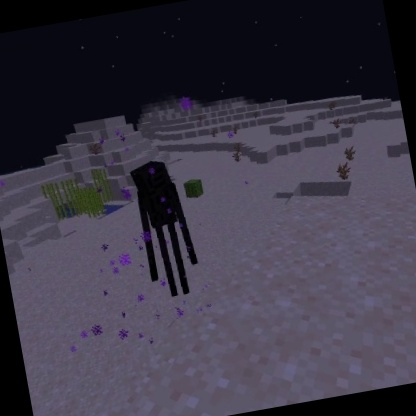enderman: (124, 153, 207, 304)
